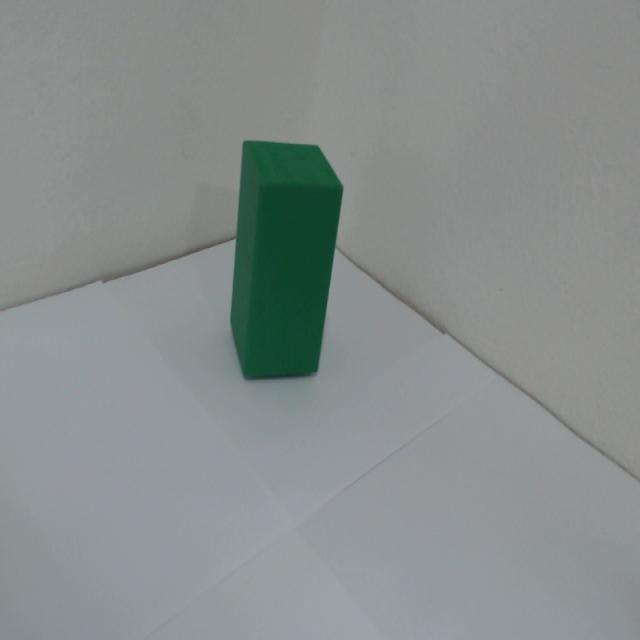cube: (192, 87, 384, 401)
